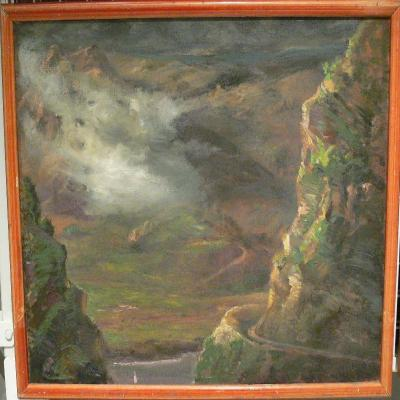painting: (0, 0, 393, 400)
